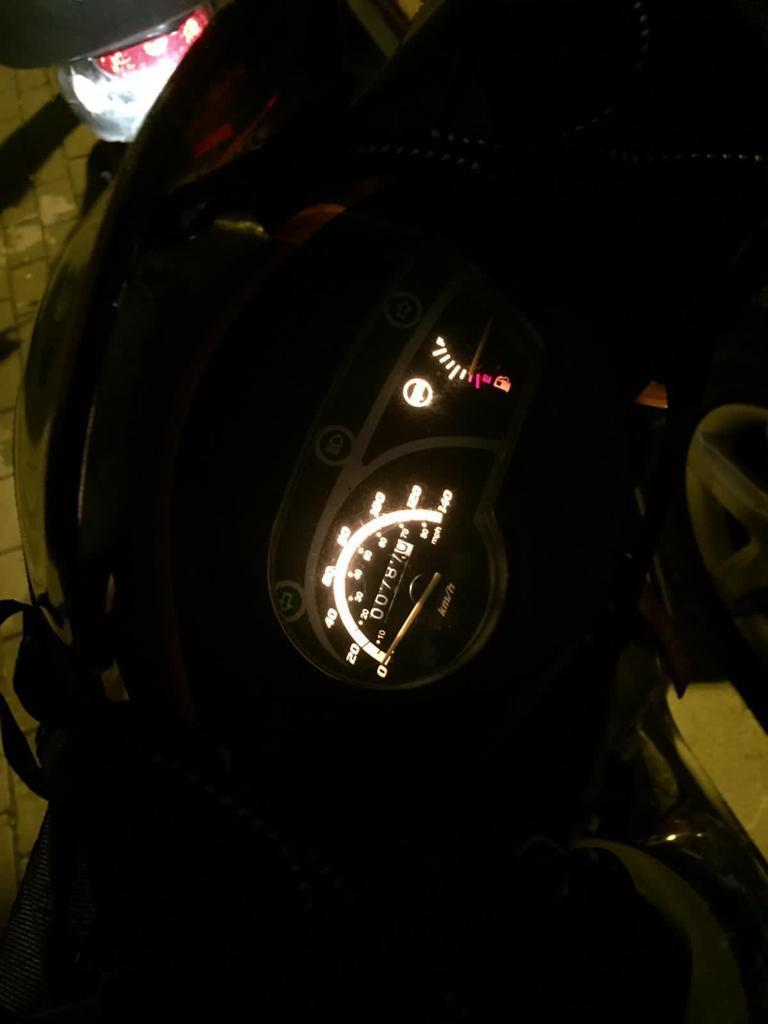0: (373, 593, 390, 605), (369, 607, 384, 620), (394, 540, 408, 552), (366, 550, 373, 556), (380, 538, 387, 543)
7: (388, 552, 402, 564), (379, 579, 392, 591)
8: (383, 566, 398, 578)
odometer: (367, 538, 415, 629)
